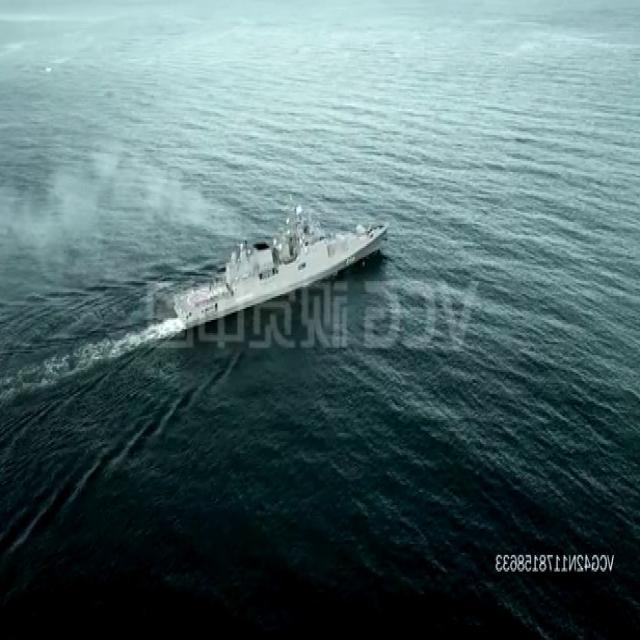navalvessels: (174, 205, 389, 324)
